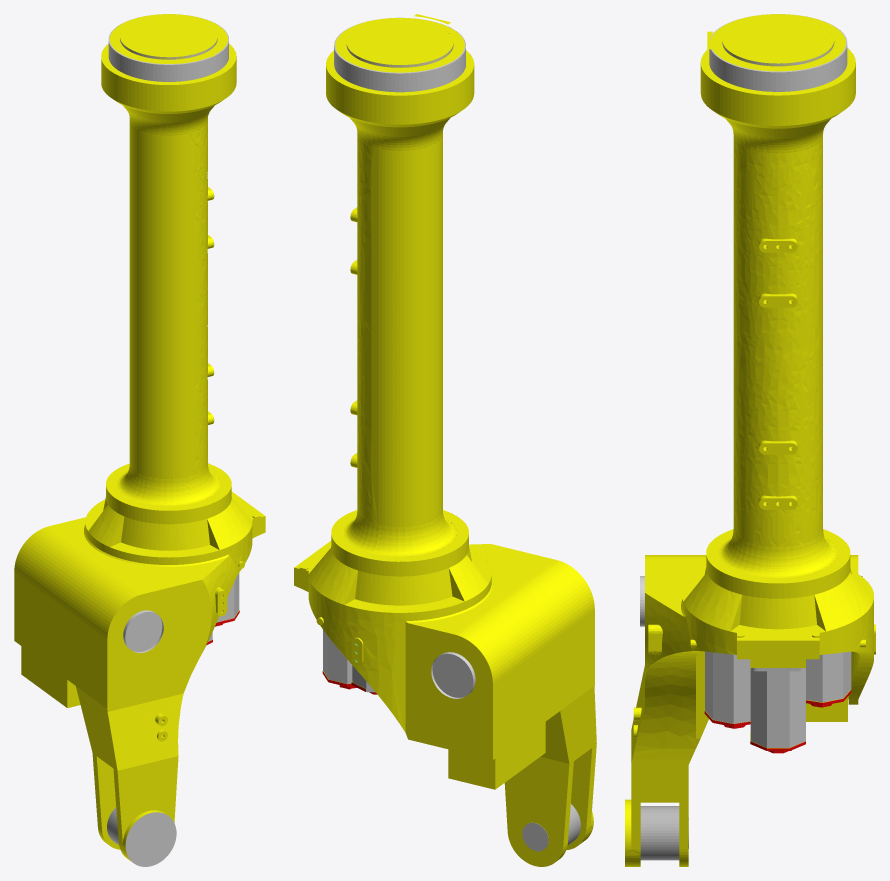
3 renders of one model, left to right at view 1: azimuth 30°, elevation 25°; view 2: azimuth 150°, elevation 25°; view 3: azimuth 270°, elevation 25°, orthographic. The views are drawn at different scales.
Visible parts, largest first — view 1: node; view 2: node; view 3: node.
Boxes of the visible parts, x1,y1,x2,y2 form: node: (14,14,265,866); node: (294,14,596,866); node: (625,14,875,866).
Size of the model in its own units: 821 by 3006 by 784.
